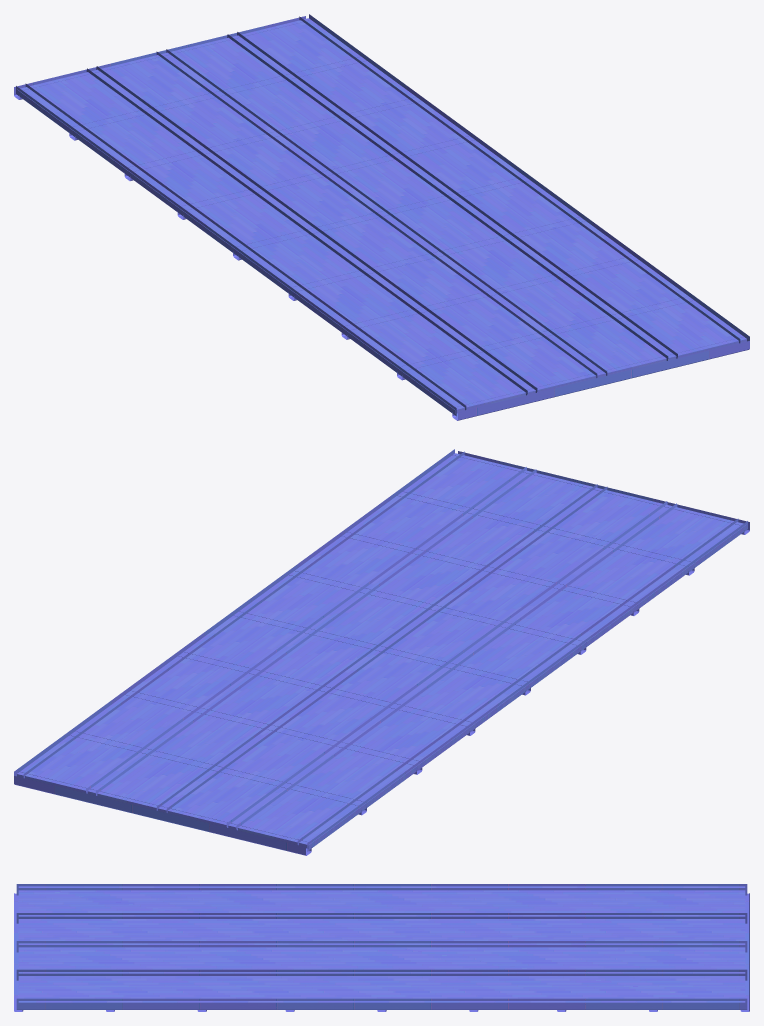
Rendered from roof low.fbx.
The picture shows the model from 3 angles, top to bottom: view 1: azimuth 30°, elevation 25°; view 2: azimuth 150°, elevation 25°; view 3: azimuth 270°, elevation 25°; orthographic projection. The views are drawn at different scales.
Parts seen in each view (by area): view 1: roof_low; view 2: roof_low; view 3: roof_low.
Boxes of the visible parts, x1,y1,x2,y2 form: roof_low: [14, 14, 749, 420]; roof_low: [14, 449, 749, 855]; roof_low: [14, 884, 749, 1011].
Size of the model in its own units: 704 by 27.36 by 1843.
